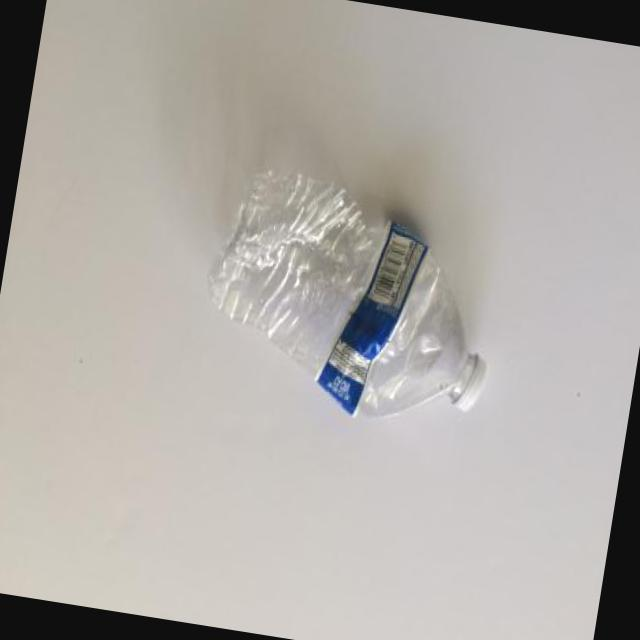bottle: (209, 172, 485, 416)
plastic: (209, 172, 389, 378)
